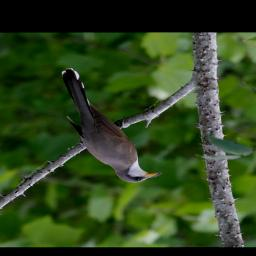Cuckoo: (58, 67, 162, 184)
